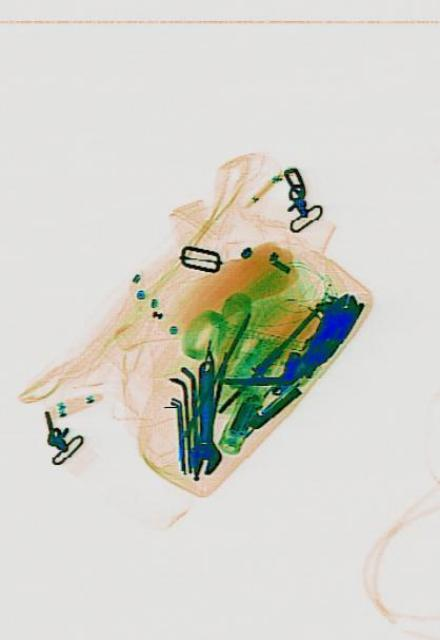Wrench: (185, 359, 221, 473)
